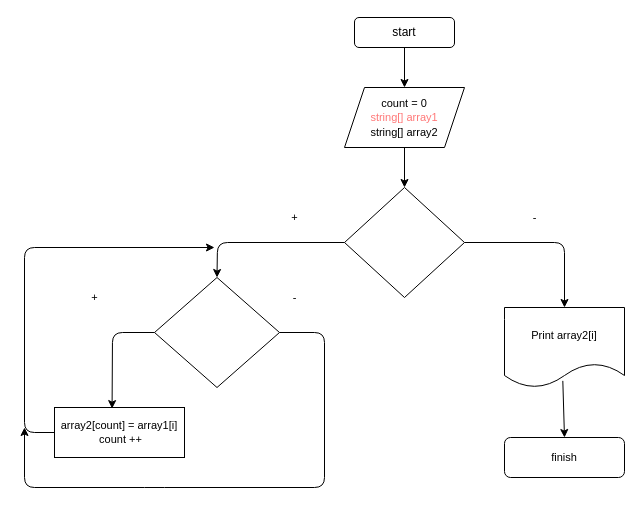
This 642x513 diagram has some shape labels left out. The box of each missing label's shape, as (x1, y1, x2, y2) in pixels:
array1.Length <=3: (154, 276, 280, 388)
i < array1.Length: (344, 186, 464, 298)
